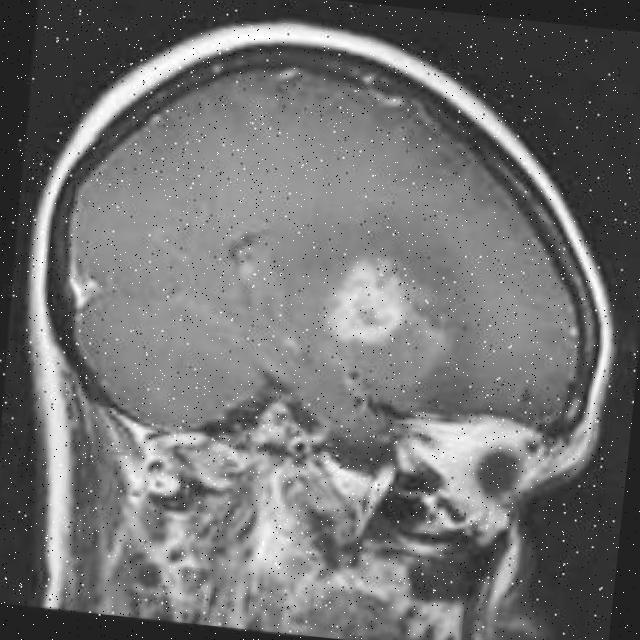MCI: (283, 271, 472, 376)
